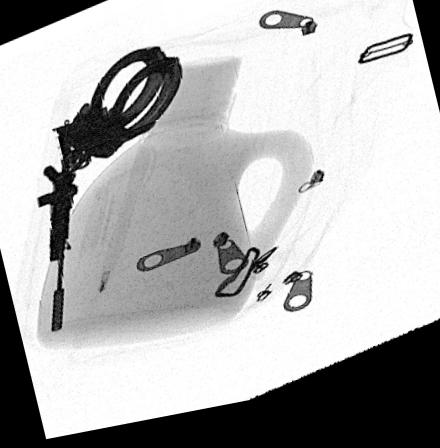Gun: (35, 122, 82, 331)
HandCuffs: (57, 48, 184, 179)
